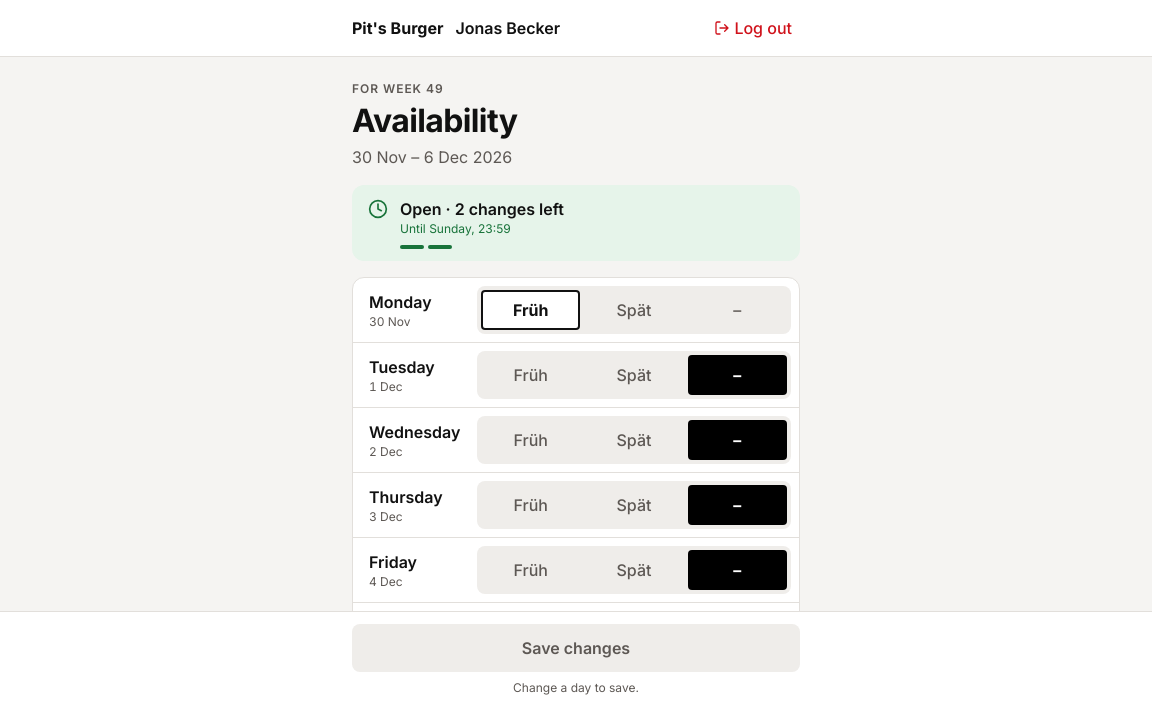
Scenario: Availability › shows a 409, and reloads the screen
Click the radio button labelled "Spät" in the row of "Tuesday": (634, 375) [584,355,684,395]
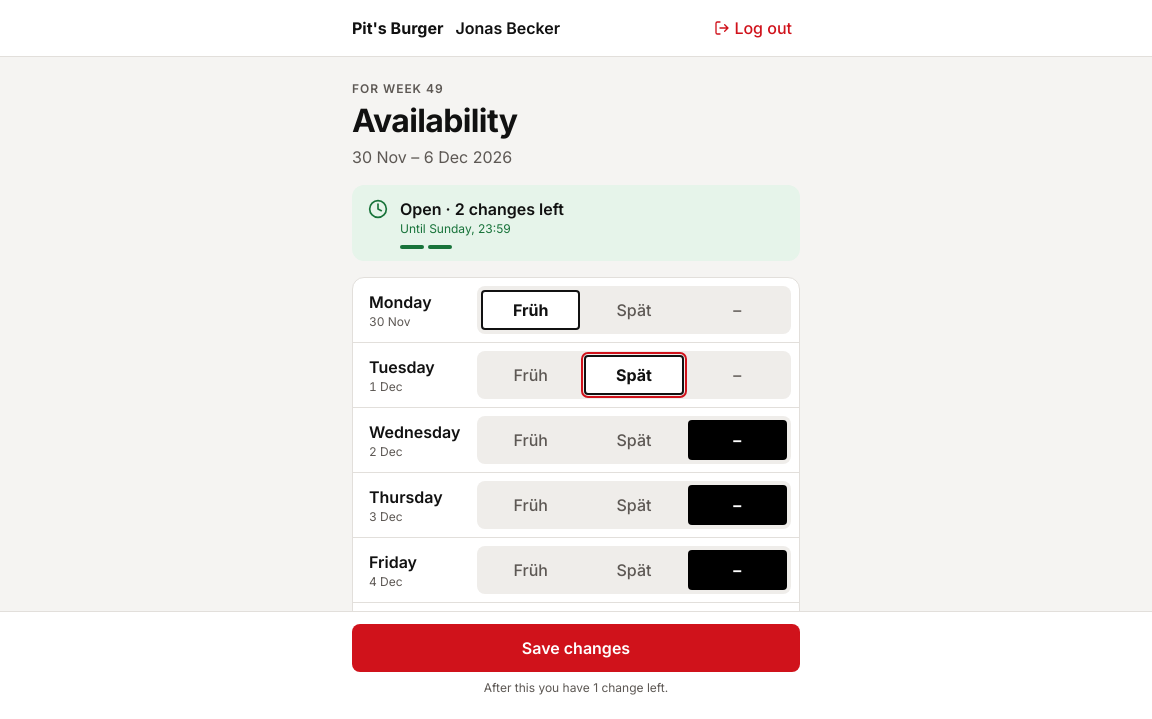
Click the button "Save changes": (576, 648) [352,624,800,672]
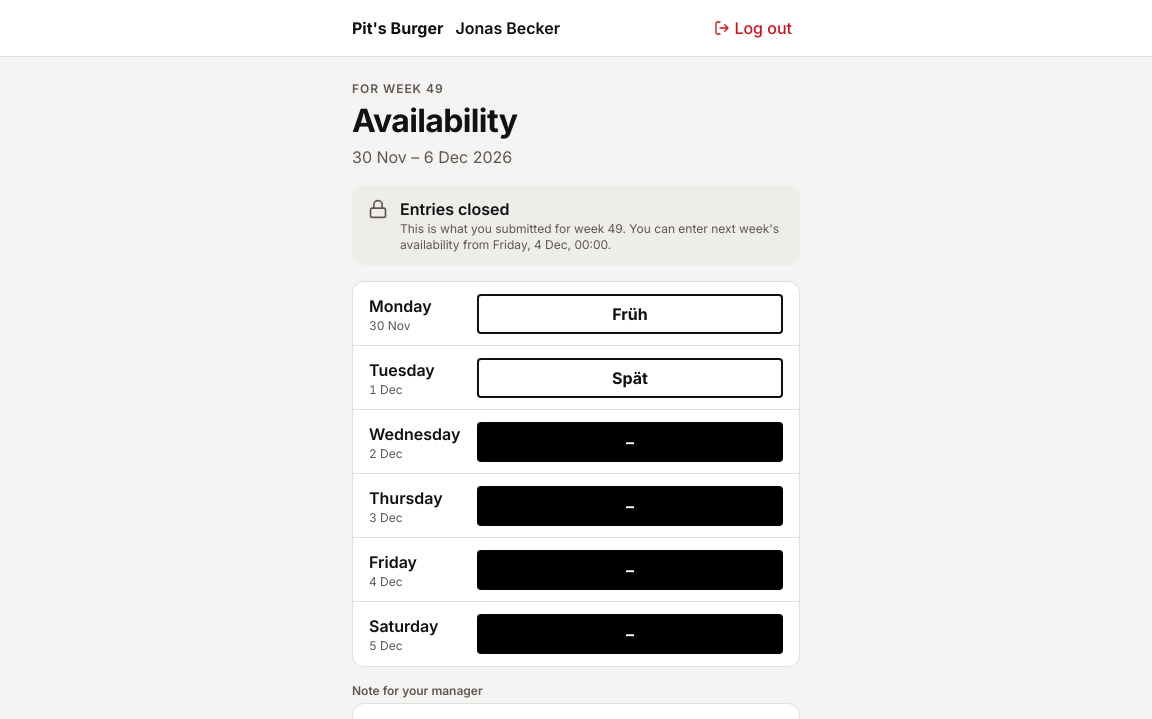
Expected: the text "Entries closed" is shown, [400,199,510,219]
